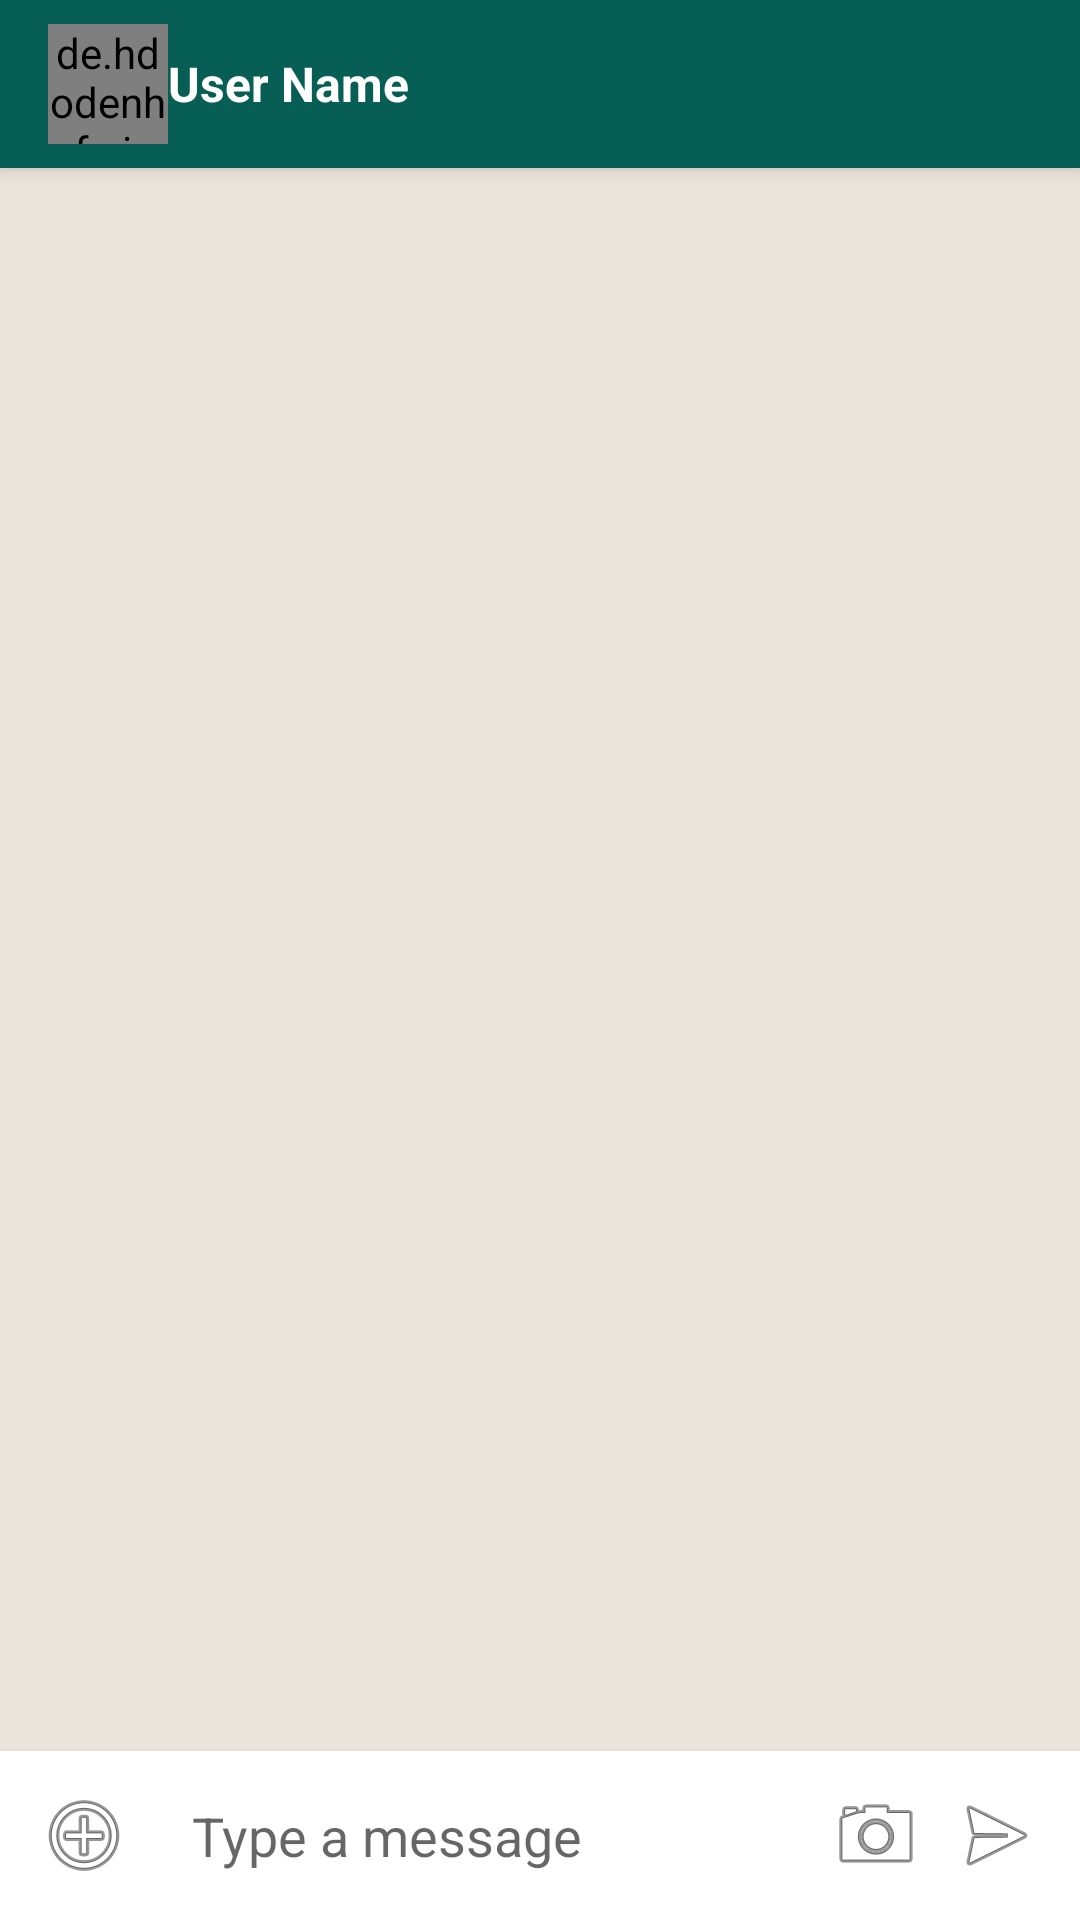

Icons on this 1080 × 1920 Android screen, each with its box as bbox=(x1, y1, x2, y2):
Camera: bbox=(839, 1804, 913, 1863)
Send: bbox=(966, 1805, 1028, 1866)
